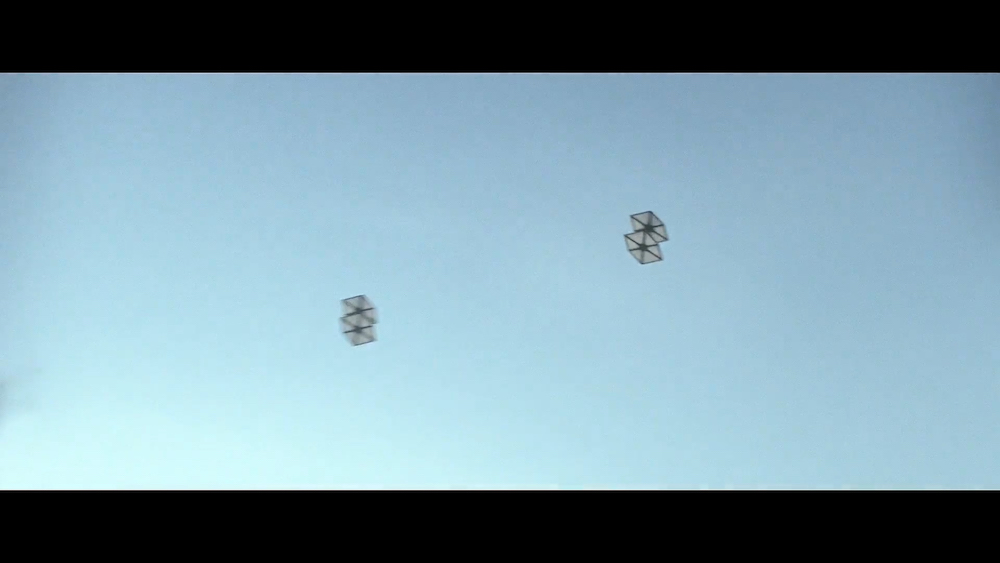Tie Fighter: (622, 210, 669, 267), (335, 294, 381, 348)
